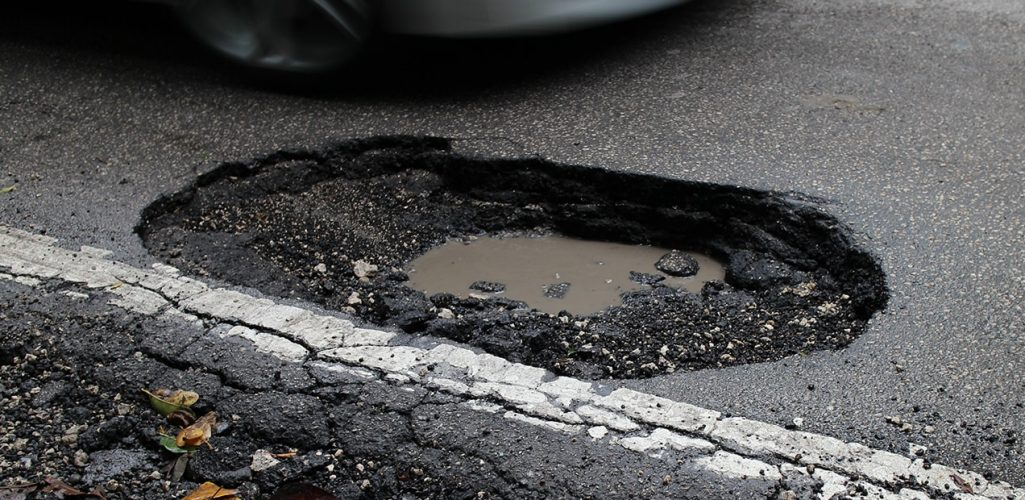pothole: (88, 124, 904, 360)
